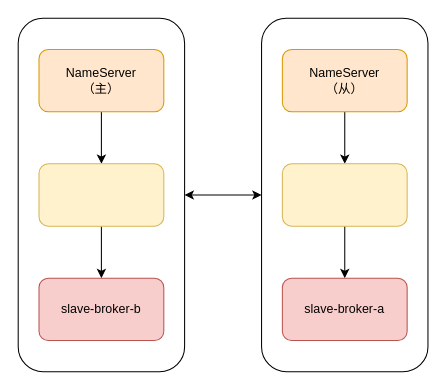
Image size: 446x390. Some labels were removed from this diagram. Each missing label, with the centre of its shape:
master-broker-a: the point at 101,194
master-broker-b: the point at 344,194
